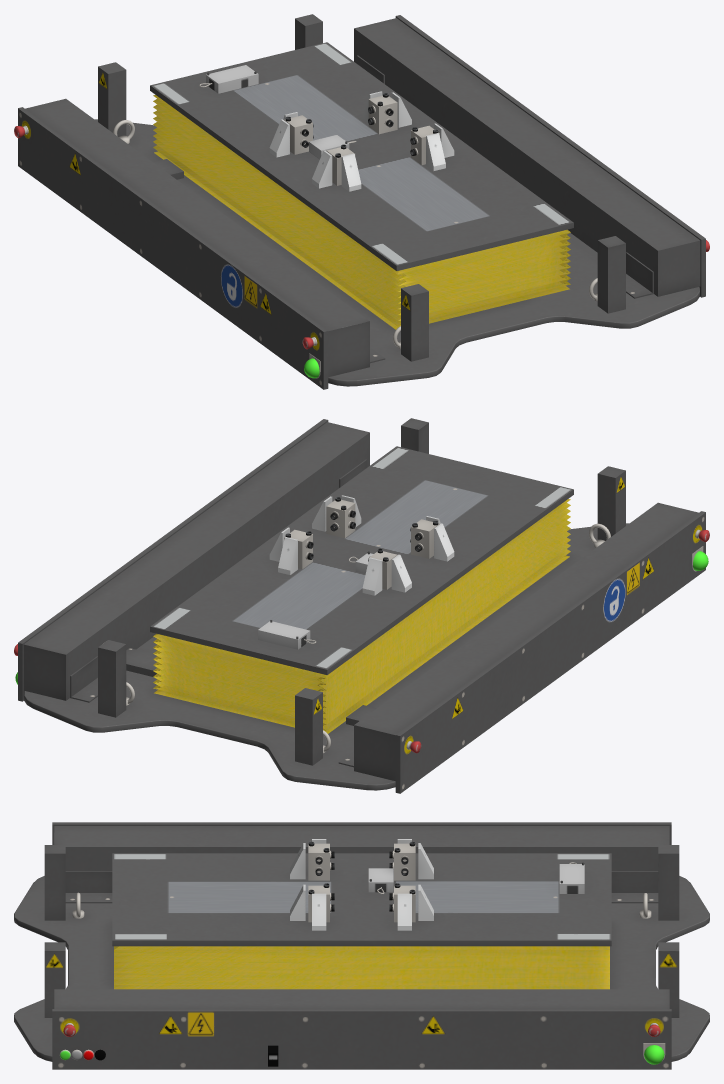
The model's file is Otto1500_PlatformB.fbx.
3 views of the same model, one above another, from view 1: azimuth 30°, elevation 25°; view 2: azimuth 150°, elevation 25°; view 3: azimuth 270°, elevation 25° (orthographic).
Visible parts, largest first — view 1: Otto1500_PlatformB, Otto1500_LiftUpper, Otto1500_Lift; view 2: Otto1500_PlatformB, Otto1500_LiftUpper, Otto1500_Lift; view 3: Otto1500_PlatformB, Otto1500_LiftUpper, Otto1500_Lift.
Part boxes in pixels (x1=…): Otto1500_PlatformB: x1=14, y1=14, x2=709, y2=389; Otto1500_LiftUpper: x1=150, y1=42, x2=573, y2=270; Otto1500_Lift: x1=153, y1=95, x2=570, y2=329; Otto1500_PlatformB: x1=14, y1=418, x2=709, y2=793; Otto1500_LiftUpper: x1=150, y1=446, x2=573, y2=674; Otto1500_Lift: x1=153, y1=499, x2=570, y2=733; Otto1500_PlatformB: x1=14, y1=822, x2=709, y2=1069; Otto1500_LiftUpper: x1=112, y1=839, x2=611, y2=946; Otto1500_Lift: x1=114, y1=946, x2=609, y2=989.
Size of the model in its own units: 153 by 104 by 26.27.
1 material, 1 textured.
